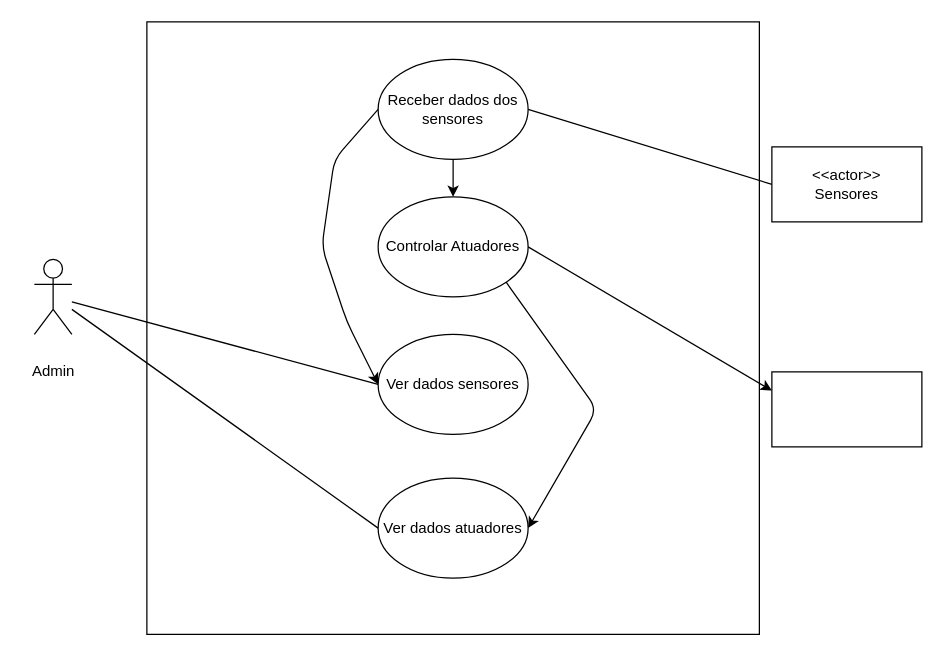
Image size: 944x656. Some labels were removed from this diagram. The shapes that lost their labels are listed below. From the top down, each one's box as (x1, y1, x2, y2) in pixels, then its label:
(33, 258, 72, 334): Actor
(771, 371, 922, 447): <<actor>> Atuadores
